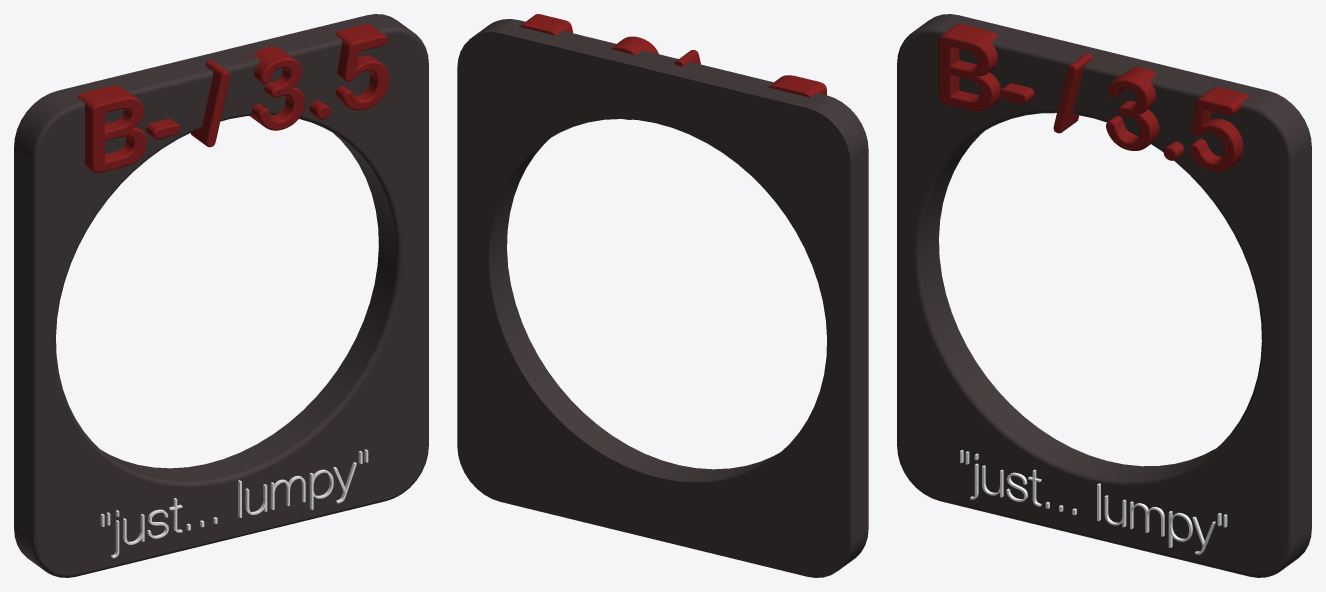
The picture shows the model from 3 angles, left to right: view 1: azimuth 30°, elevation 25°; view 2: azimuth 150°, elevation 25°; view 3: azimuth 330°, elevation 25°; orthographic projection.
Visible parts, largest first — view 1: a50cc97b-7fa0-4c5b-99f2-7063689ae8de, da355628-a428-4453-9b5a-78eb57d7544b, a1d272d8-9a3c-46d3-8f90-b0ed5efe7dd0, a67f38b4-1d31-47b5-b11a-40e558d10f47, a756e9f1-2fa3-4e00-831c-88f437996335, a71ec4f1-86f8-4bb6-bd8d-aa59118ee2df; view 2: a50cc97b-7fa0-4c5b-99f2-7063689ae8de, da355628-a428-4453-9b5a-78eb57d7544b, a1d272d8-9a3c-46d3-8f90-b0ed5efe7dd0, a67f38b4-1d31-47b5-b11a-40e558d10f47; view 3: a50cc97b-7fa0-4c5b-99f2-7063689ae8de, da355628-a428-4453-9b5a-78eb57d7544b, a1d272d8-9a3c-46d3-8f90-b0ed5efe7dd0, a67f38b4-1d31-47b5-b11a-40e558d10f47, a756e9f1-2fa3-4e00-831c-88f437996335, a71ec4f1-86f8-4bb6-bd8d-aa59118ee2df.
Part boxes in pixels (left/top/right/bottom): a50cc97b-7fa0-4c5b-99f2-7063689ae8de: left=14, top=14, right=428, bottom=577; da355628-a428-4453-9b5a-78eb57d7544b: left=77, top=85, right=146, bottom=173; a1d272d8-9a3c-46d3-8f90-b0ed5efe7dd0: left=335, top=23, right=389, bottom=110; a67f38b4-1d31-47b5-b11a-40e558d10f47: left=250, top=46, right=305, bottom=130; a756e9f1-2fa3-4e00-831c-88f437996335: left=191, top=60, right=230, bottom=147; a71ec4f1-86f8-4bb6-bd8d-aa59118ee2df: left=146, top=118, right=180, bottom=139; a50cc97b-7fa0-4c5b-99f2-7063689ae8de: left=457, top=19, right=868, bottom=577; da355628-a428-4453-9b5a-78eb57d7544b: left=768, top=75, right=826, bottom=97; a1d272d8-9a3c-46d3-8f90-b0ed5efe7dd0: left=519, top=14, right=572, bottom=35; a67f38b4-1d31-47b5-b11a-40e558d10f47: left=611, top=36, right=658, bottom=119; a50cc97b-7fa0-4c5b-99f2-7063689ae8de: left=897, top=14, right=1311, bottom=577; da355628-a428-4453-9b5a-78eb57d7544b: left=939, top=23, right=1000, bottom=111; a1d272d8-9a3c-46d3-8f90-b0ed5efe7dd0: left=1190, top=86, right=1249, bottom=171; a67f38b4-1d31-47b5-b11a-40e558d10f47: left=1106, top=67, right=1159, bottom=150; a756e9f1-2fa3-4e00-831c-88f437996335: left=1053, top=53, right=1092, bottom=133; a71ec4f1-86f8-4bb6-bd8d-aa59118ee2df: left=1000, top=83, right=1034, bottom=103.
Bounding box in the file's own units: 45.73 × 5.58 × 52.58.
